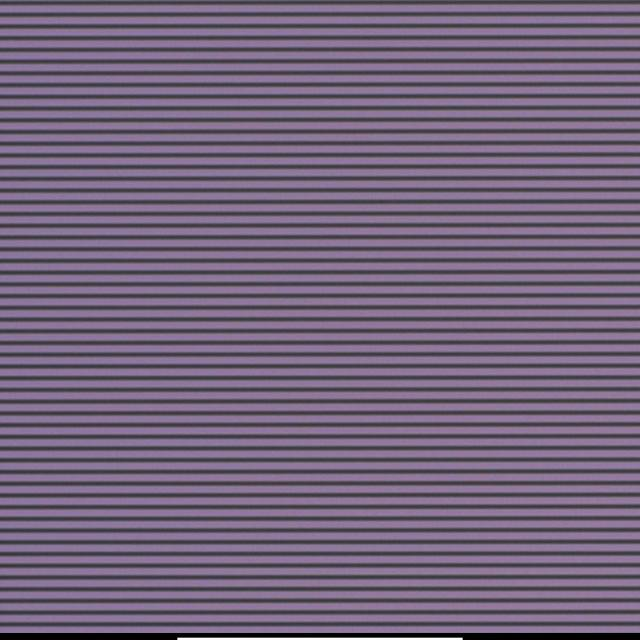nonvisual: (295, 314, 303, 320)
